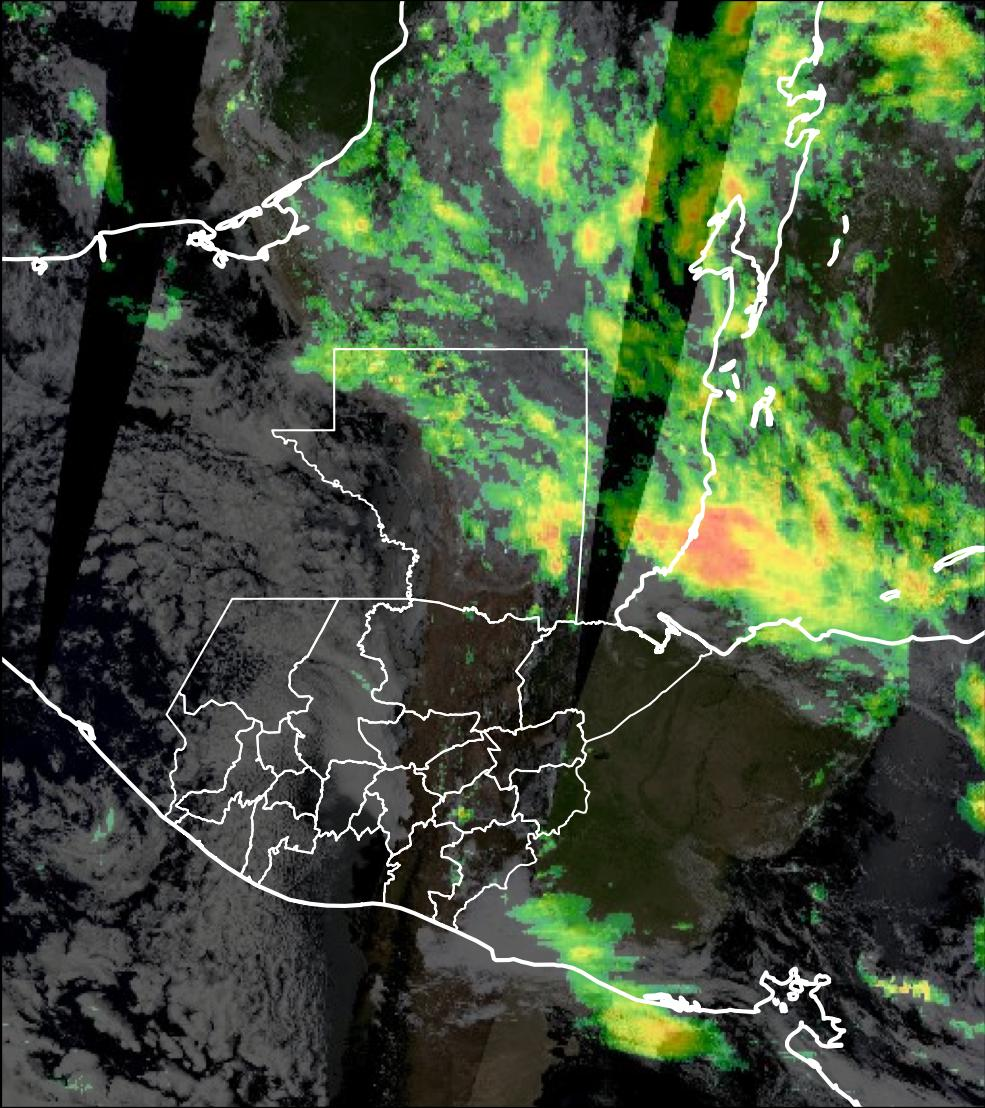precipitacion: (650, 489, 847, 599)
